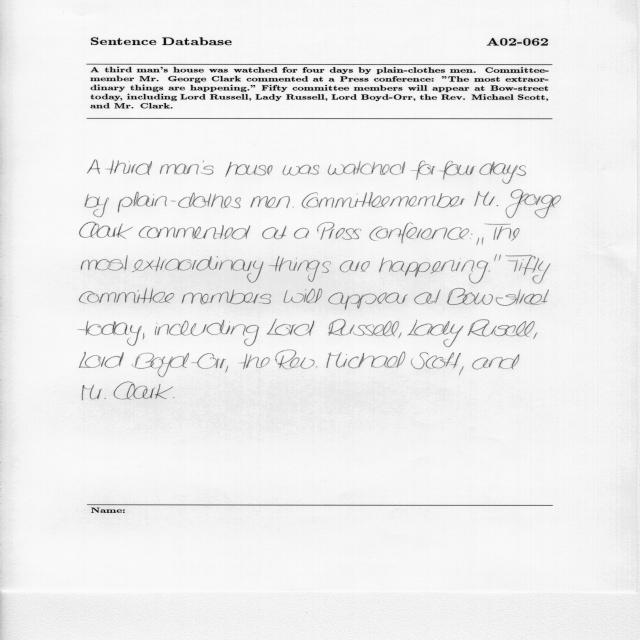word: (132, 256, 264, 283), (379, 257, 488, 284), (132, 353, 247, 377), (155, 320, 259, 346), (302, 192, 465, 208), (118, 192, 241, 213), (369, 222, 469, 244), (447, 288, 549, 306), (139, 225, 250, 240), (78, 320, 142, 346), (268, 256, 331, 282), (505, 190, 561, 219), (408, 320, 464, 348), (328, 292, 408, 310), (80, 288, 175, 303), (182, 290, 272, 305), (506, 255, 550, 283), (328, 319, 399, 336), (468, 319, 535, 337), (328, 161, 405, 175), (114, 382, 173, 400), (479, 162, 526, 184), (348, 352, 405, 369), (477, 224, 520, 246), (79, 222, 133, 239), (411, 352, 461, 369), (275, 350, 318, 369), (267, 319, 314, 336), (160, 160, 213, 175), (317, 222, 361, 240), (81, 255, 128, 271), (225, 162, 273, 177), (79, 352, 124, 368), (105, 160, 152, 175), (473, 354, 520, 369), (438, 161, 475, 180), (284, 289, 323, 304), (85, 195, 109, 218), (250, 196, 290, 208), (411, 161, 436, 180), (283, 165, 320, 176), (414, 290, 441, 305), (82, 385, 106, 401), (475, 191, 499, 206), (340, 261, 370, 273), (327, 352, 348, 368), (263, 226, 287, 239), (246, 355, 270, 368), (88, 159, 101, 174), (294, 228, 309, 239), (488, 255, 497, 272), (459, 366, 464, 376), (534, 332, 538, 339), (398, 333, 402, 339), (499, 255, 501, 261), (143, 333, 145, 339), (471, 234, 473, 235), (173, 397, 175, 398), (293, 207, 294, 208), (470, 238, 471, 239)
